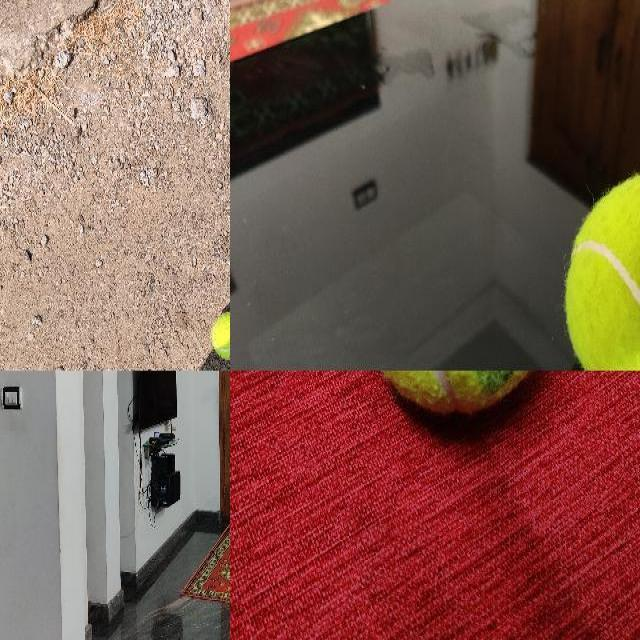tennis-ball: (562, 168, 639, 370), (211, 311, 229, 359)
